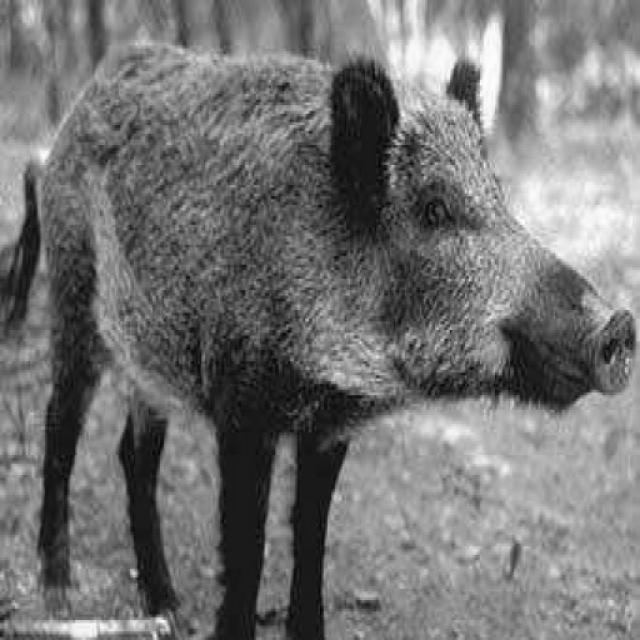WILD BOAR: (18, 46, 640, 610)
